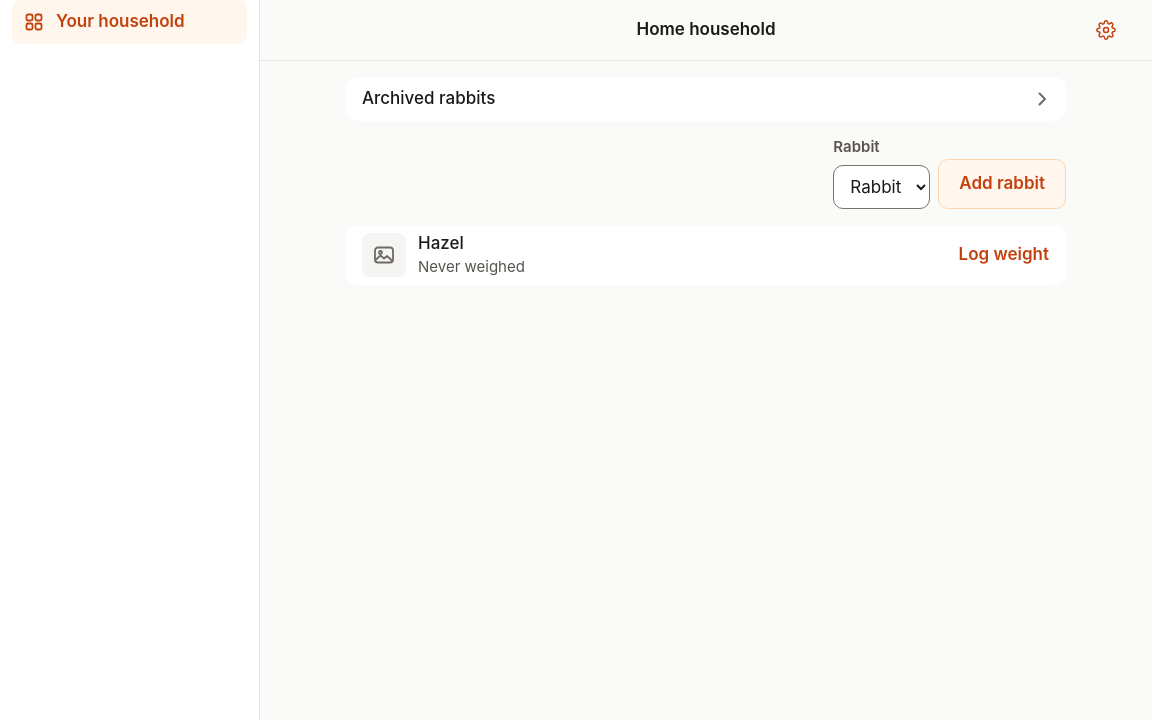
Scenario: opens the selected rabbit's weight dashboard (DASH-6, DASH-7)
Expected: the element that starts with "Home household" is shown, [260,0,1151,285]
Click the text "Hazel" at {"x": 441, "y": 243}, box [418,233,464,253]
(page scrolled)
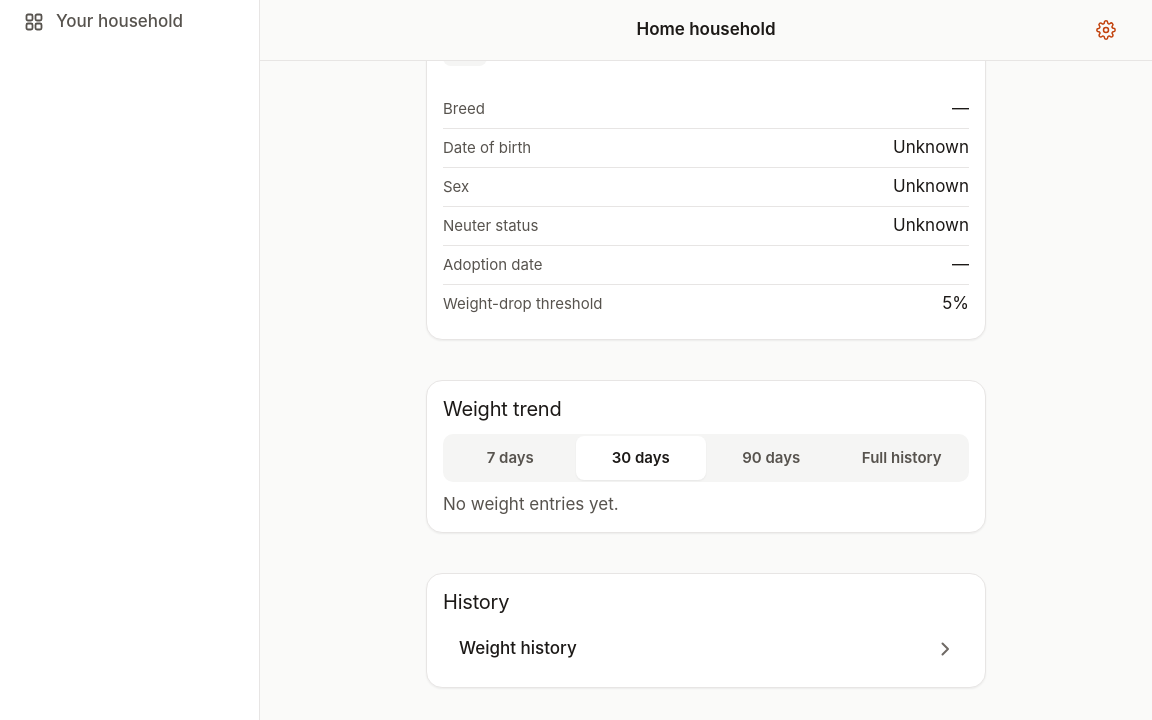
Now the element "Weight trend" is shown, box [426,380,986,533]
Now the element "History" is shown, box [426,573,986,688]
Now the button "Weight history" is shown, box [443,627,969,671]
